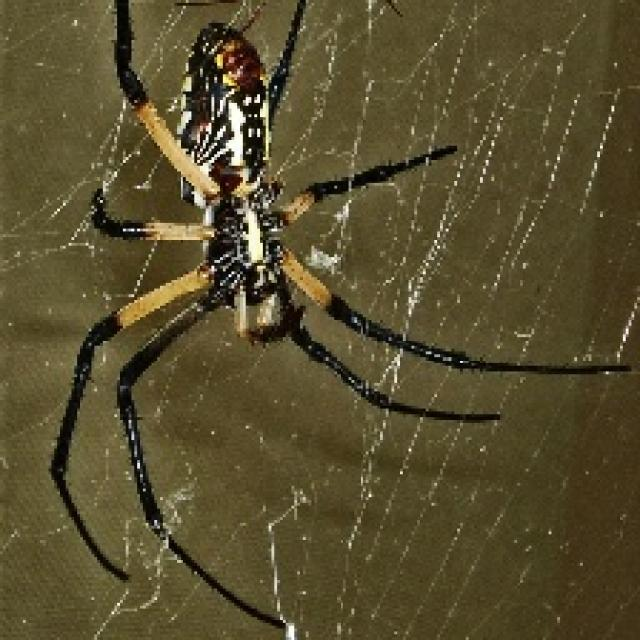Non venomous spider: (14, 16, 622, 624)
